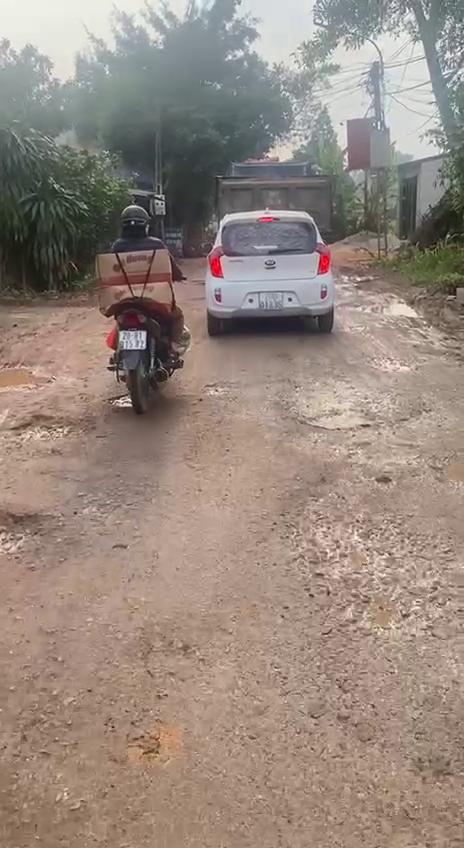pothole: (286, 495, 464, 637), (284, 401, 433, 434), (0, 504, 81, 550), (9, 416, 96, 447), (0, 358, 55, 394)
